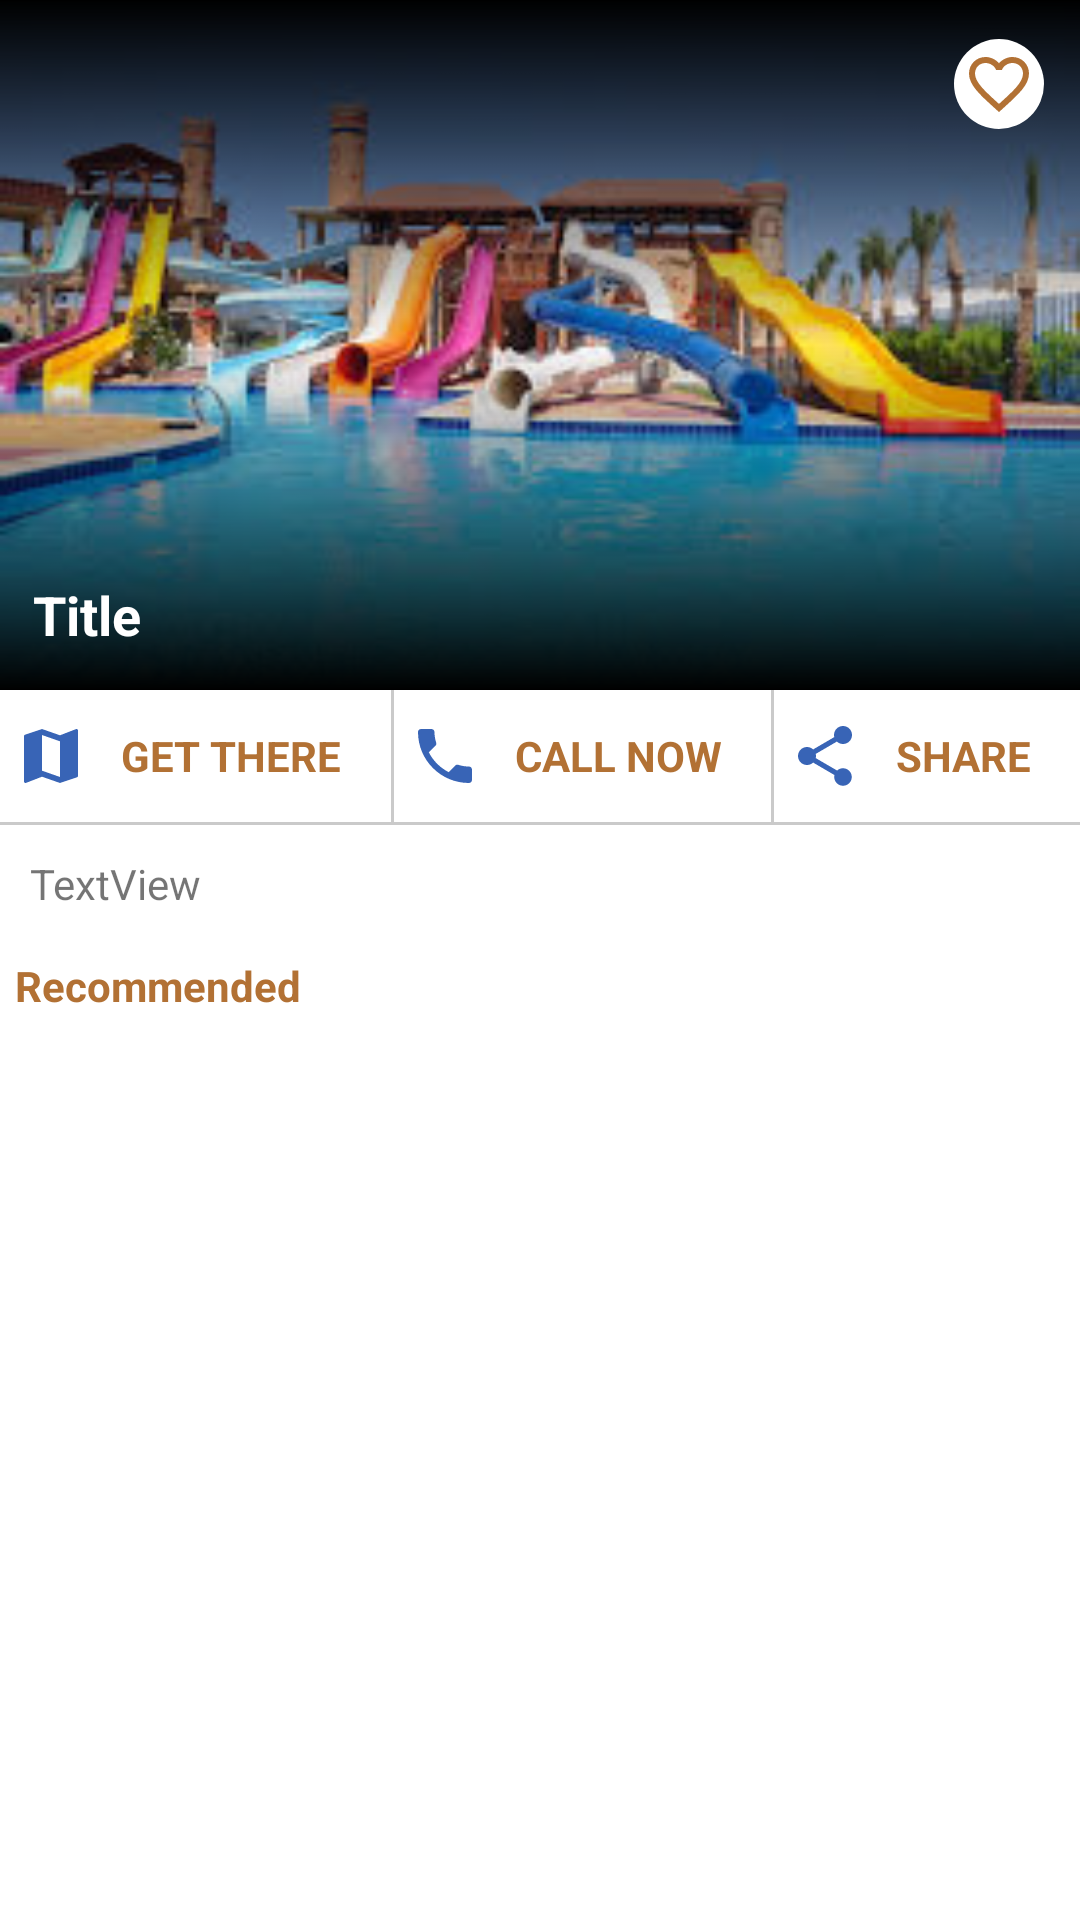

Point at icon controls on the screen. Image size 1080 x 1920, points as point (x, y).
favoriton: point (999, 84)
